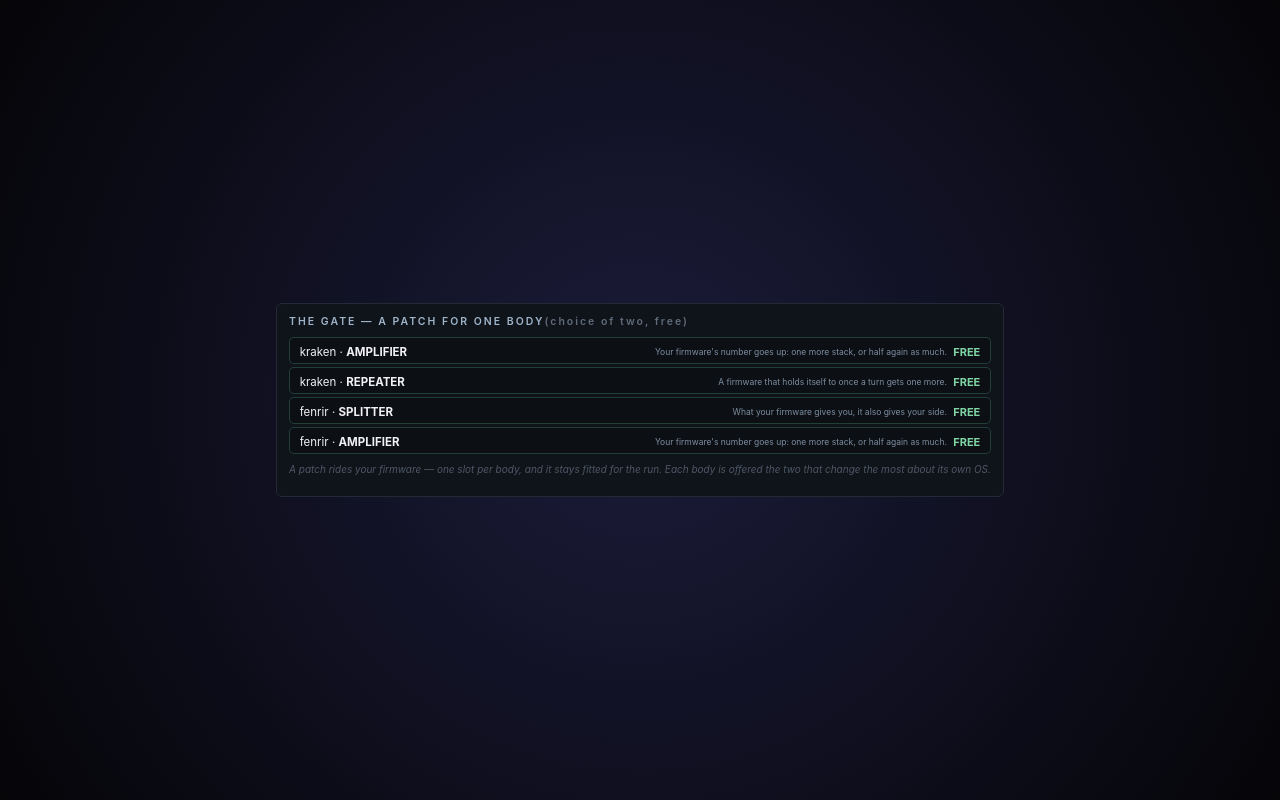
Test: 166e — PatchBench at the gate › at the gate: fit one patch -> the rows are replaced by the "offers one" line
The image size is (1280, 800).
Expected: the text "Patch fitted — the gate offers one." is not shown
Click the 1st button with class "rs-row" at coordinates (318, 352), box [289,337,991,364]
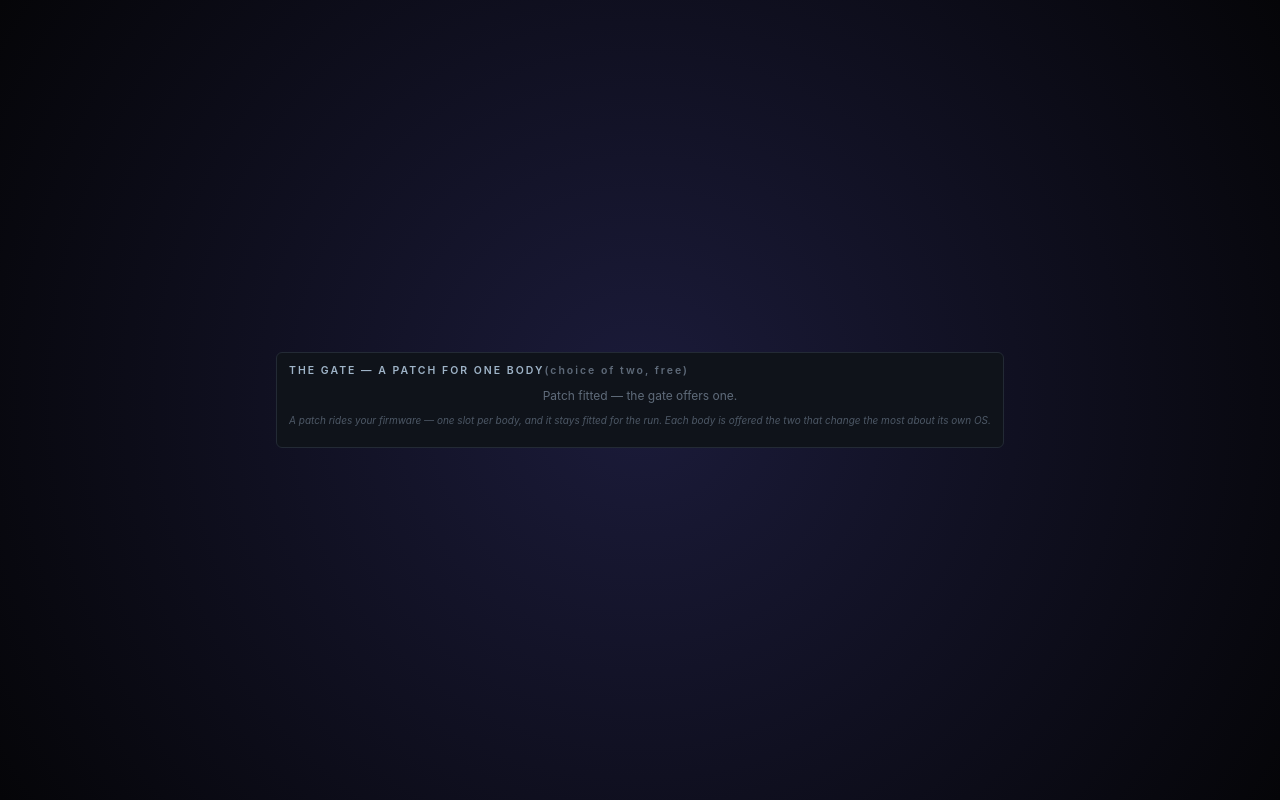
Result: the text "Patch fitted — the gate offers one." is shown at [543,388,737,403]
Result: no buttons with class "rs-row" are shown
